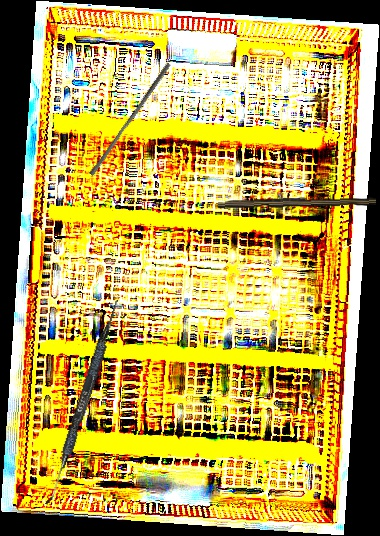Pusher: (88, 59, 172, 179)
Scalpel Handle: (217, 193, 377, 211)
Spatula Surgical: (45, 297, 121, 508)
